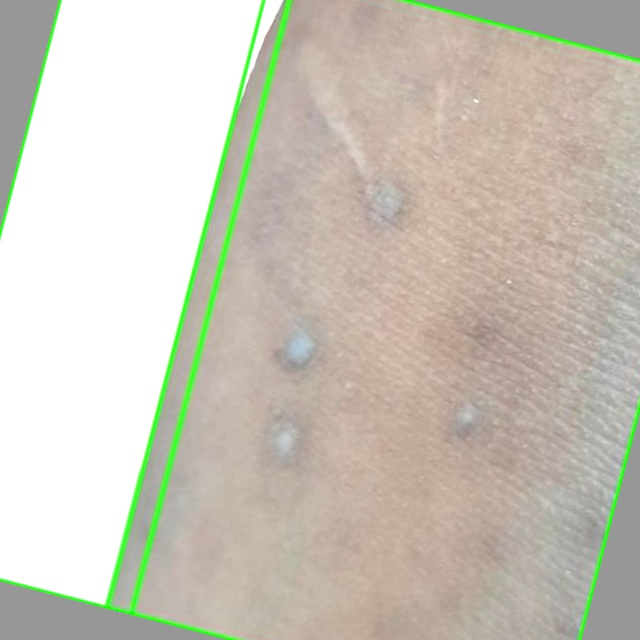Scabies: (107, 0, 639, 639), (0, 0, 289, 613)
